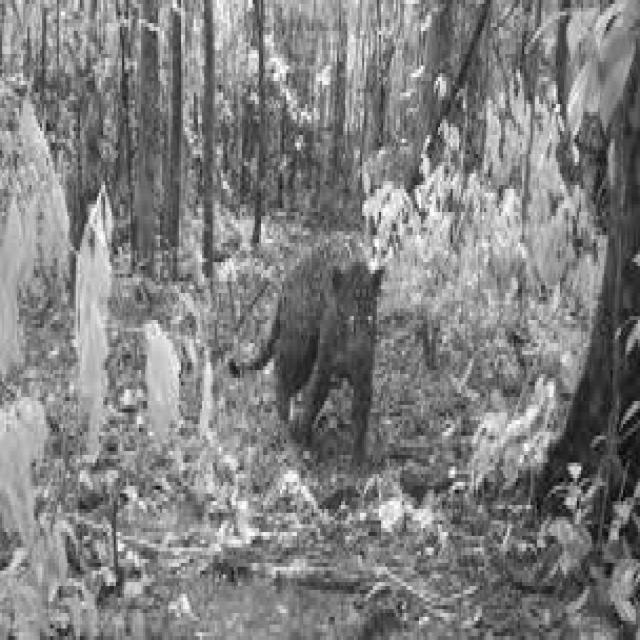Jaguar: (230, 232, 388, 470)
